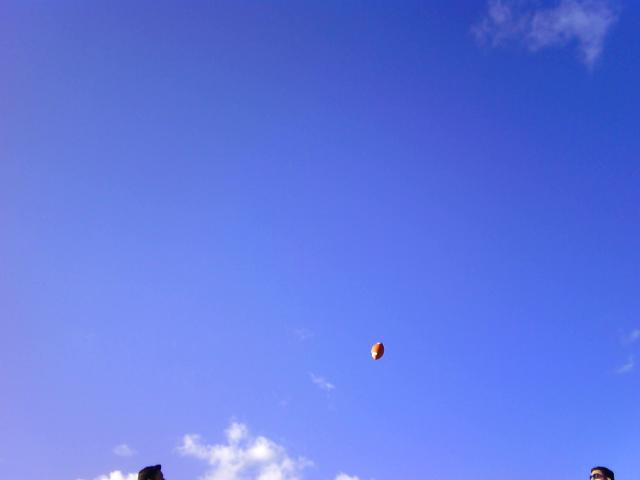football: (367, 337, 387, 363)
